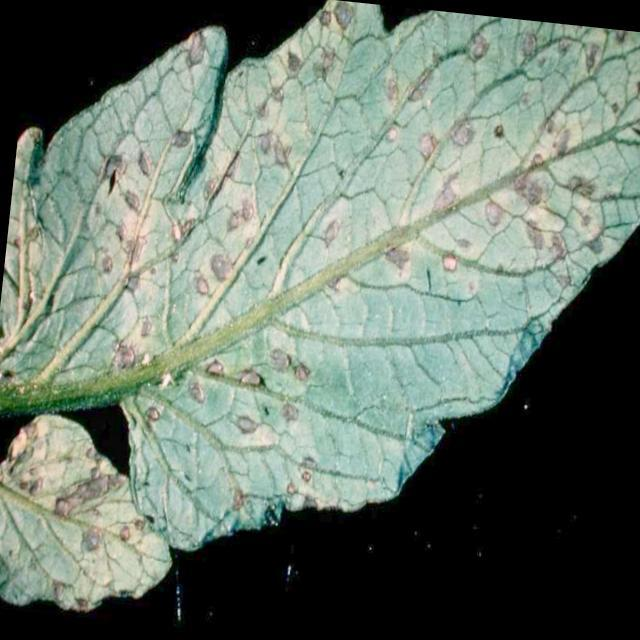Tomato Septoria spot leaf: (0, 0, 640, 601), (0, 407, 184, 625)
